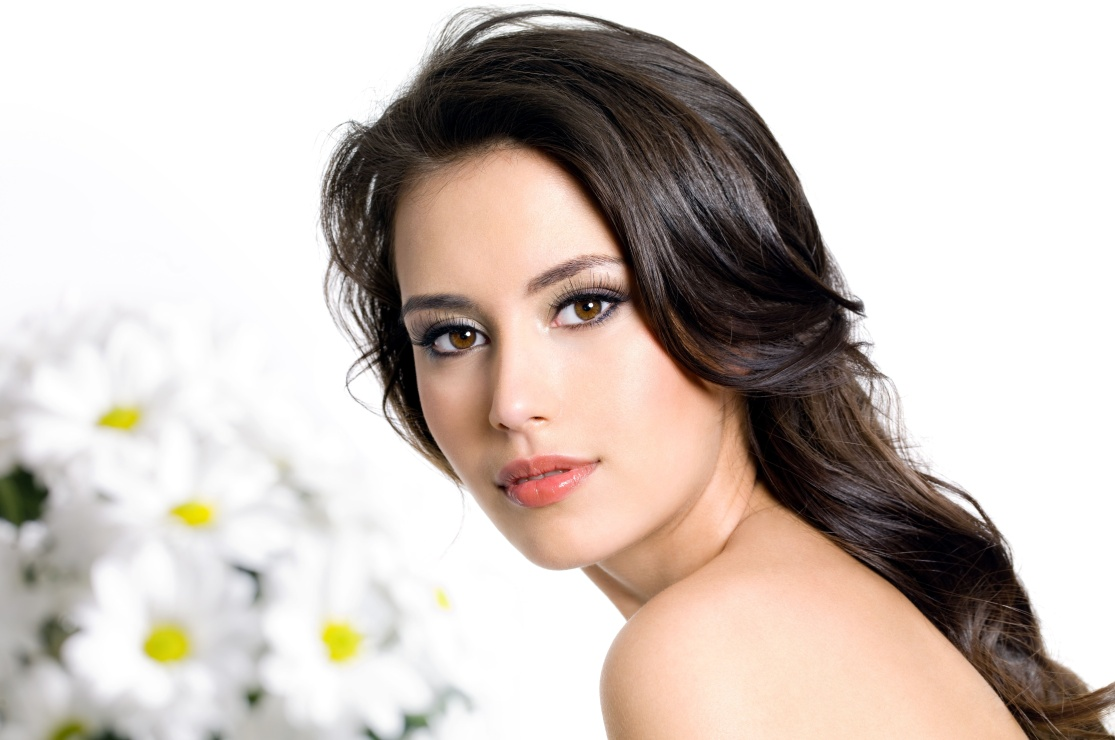Forehead: (365, 148, 697, 297)
